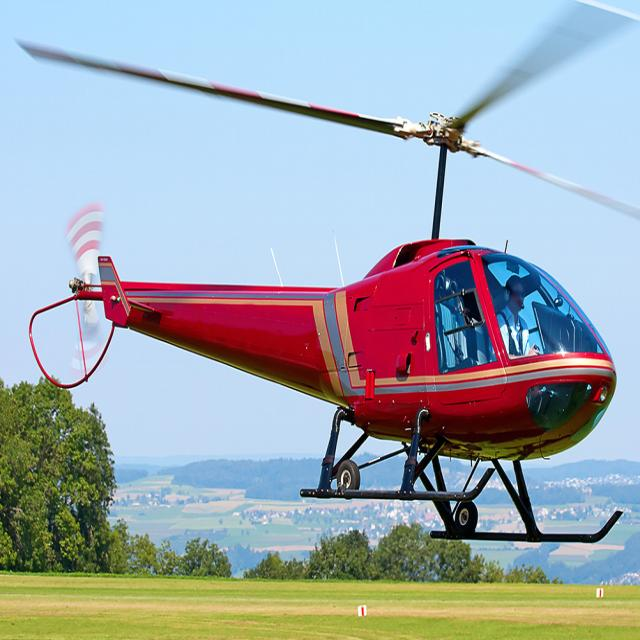helicopter: (19, 8, 640, 543)
